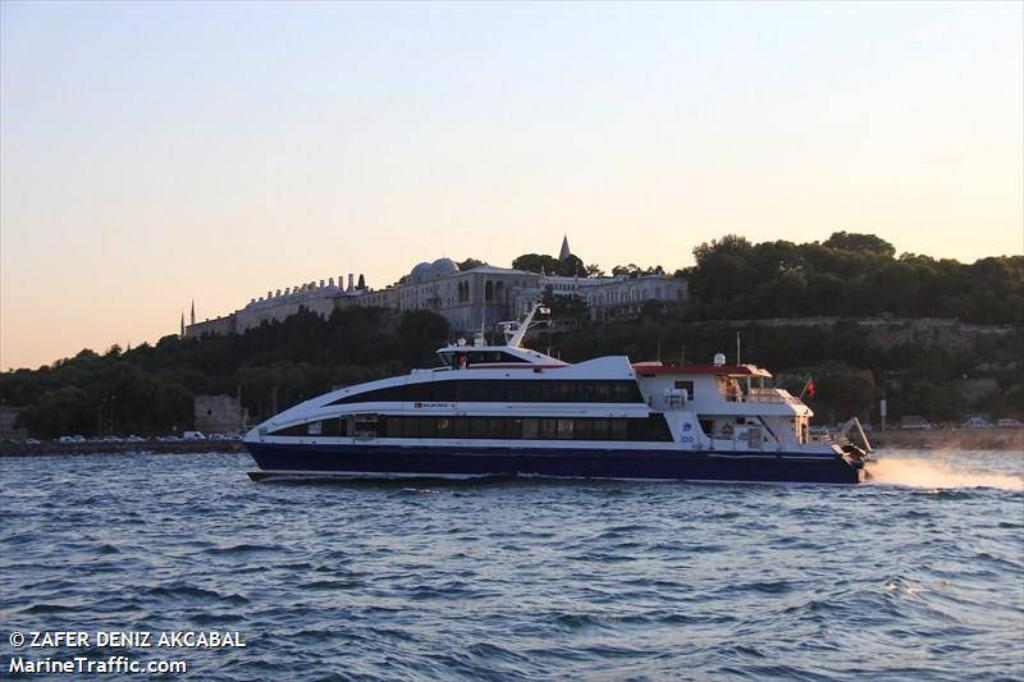PassengerShip: (238, 308, 884, 490)
